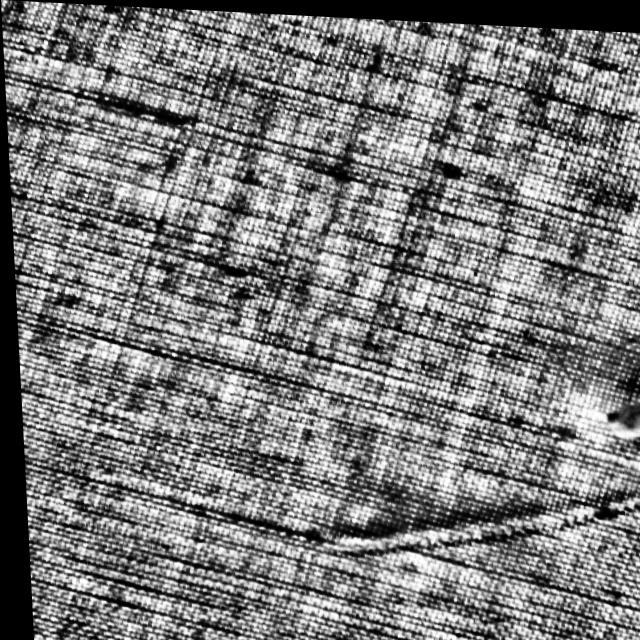Stitch: (324, 455, 640, 563), (601, 387, 640, 440)
